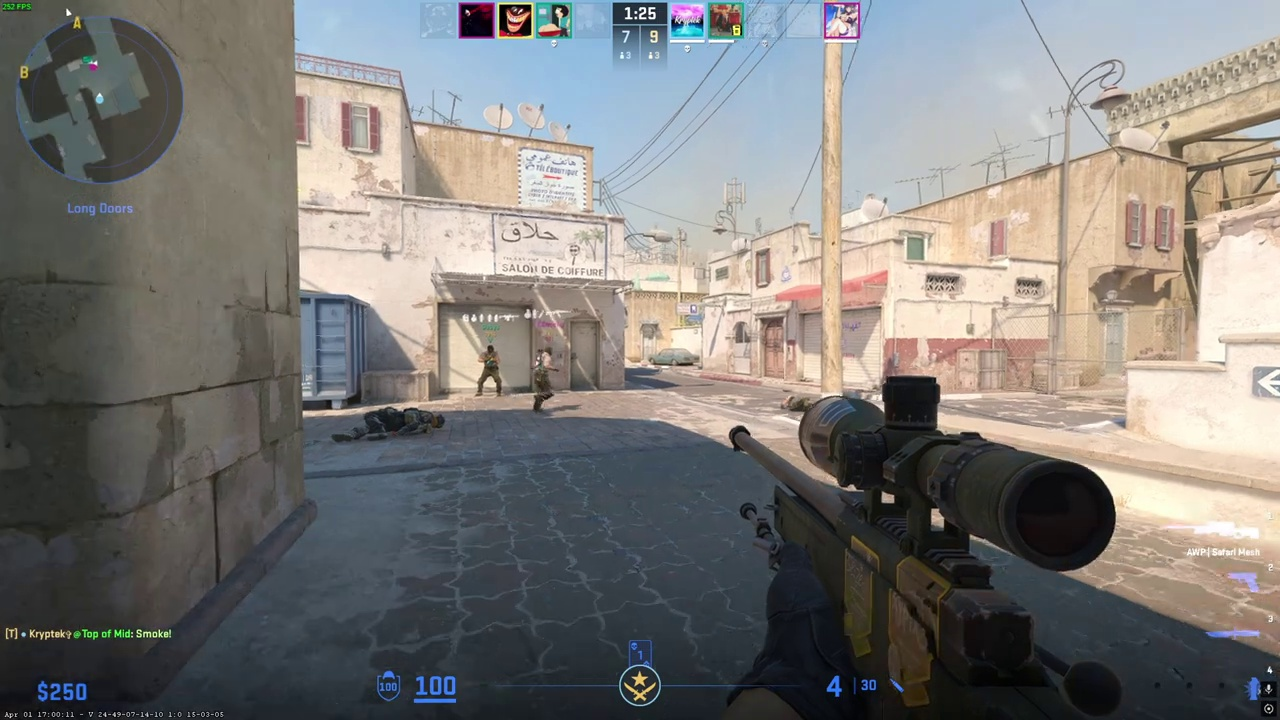Terrorist: (530, 347, 555, 413), (477, 345, 503, 397)
